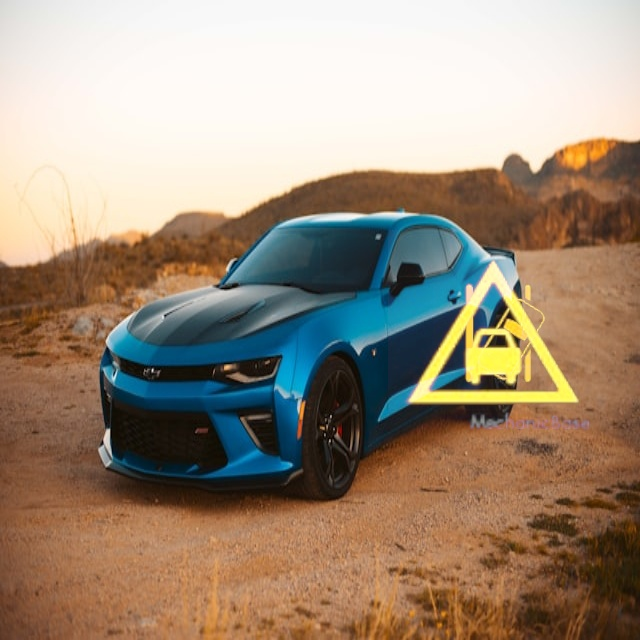symbol: (388, 230, 598, 440), (433, 264, 577, 408)
